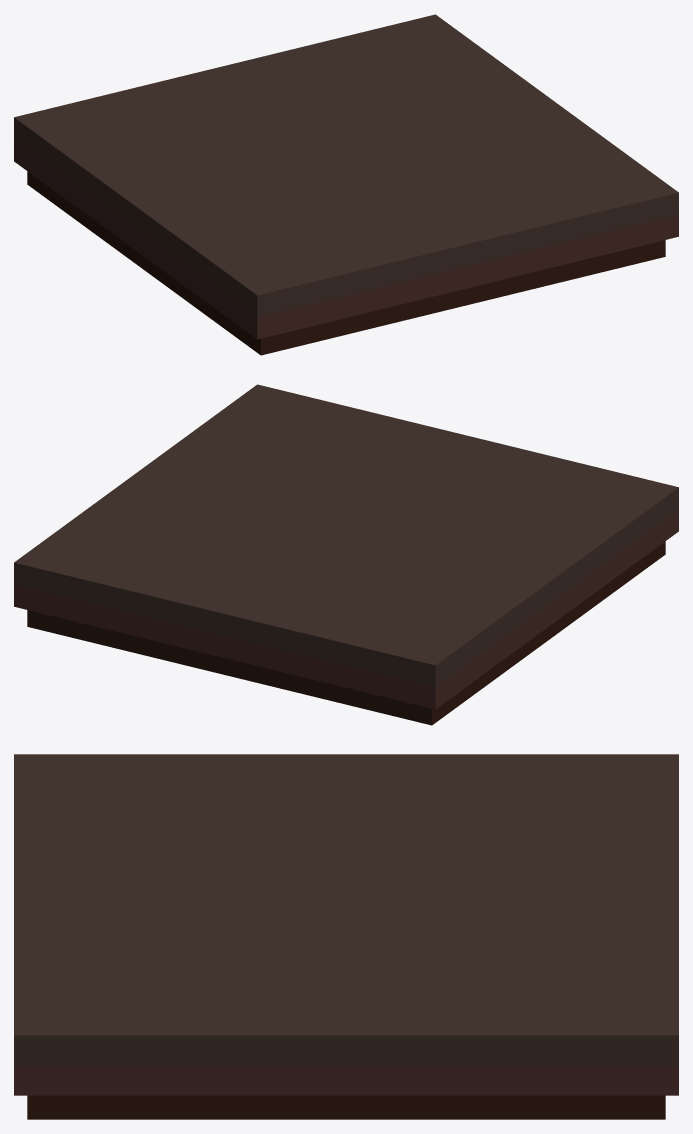
File: Tile_Mud_Simple.fbx
The picture shows the model from 3 angles, top to bottom: view 1: azimuth 30°, elevation 25°; view 2: azimuth 150°, elevation 25°; view 3: azimuth 270°, elevation 25°; orthographic projection. The views are drawn at different scales.
Visible parts, largest first — view 1: Tile_Mud_Simple; view 2: Tile_Mud_Simple; view 3: Tile_Mud_Simple.
Part boxes in pixels (x1,y1,x2,y2): Tile_Mud_Simple: (14,14,678,355); Tile_Mud_Simple: (14,384,678,725); Tile_Mud_Simple: (14,754,678,1119).
Bounding box in the file's own units: 100 × 14.9 × 100.
